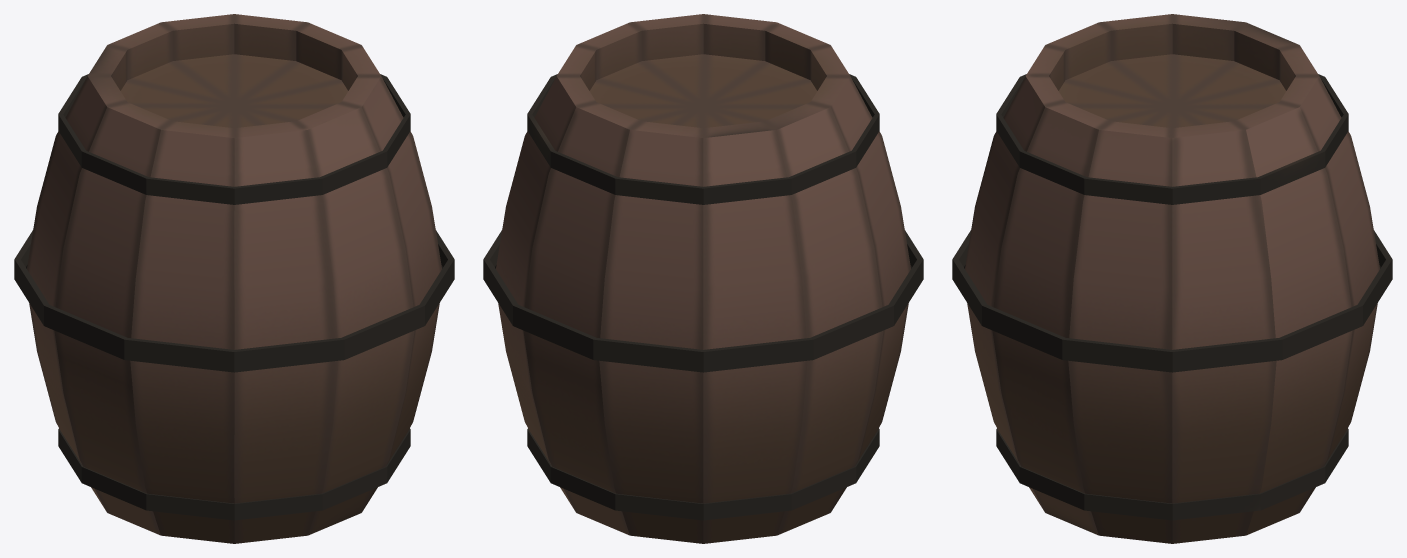
File: Barrel.fbx
3 renders of one model, left to right at view 1: azimuth 30°, elevation 25°; view 2: azimuth 150°, elevation 25°; view 3: azimuth 270°, elevation 25°, orthographic.
Parts seen in each view (by area): view 1: barrel; view 2: barrel; view 3: barrel.
Part boxes in pixels (left/top/right/bottom): barrel: left=14, top=14, right=454, bottom=543; barrel: left=483, top=14, right=923, bottom=543; barrel: left=952, top=14, right=1392, bottom=543.
Size of the model in its own units: 1.32 by 1.34 by 1.32.
